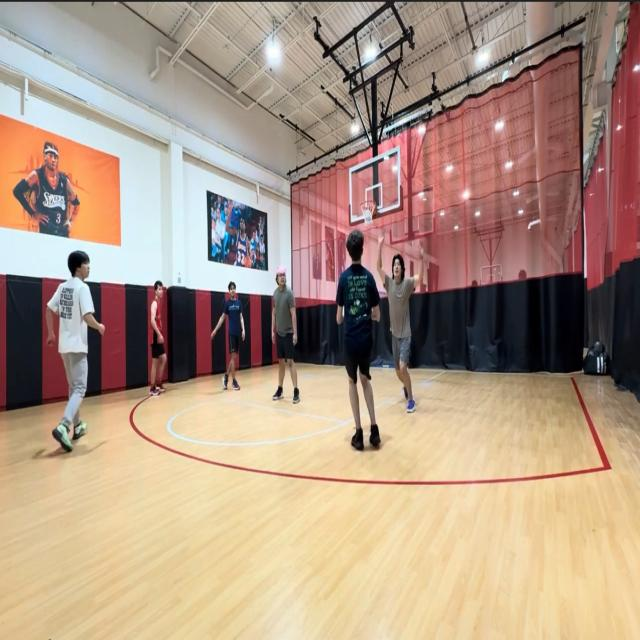Basketball Rim: (360, 200, 376, 227)
Player: (46, 248, 104, 456), (336, 229, 382, 450), (376, 232, 424, 415), (208, 280, 246, 389), (270, 266, 300, 402), (146, 278, 166, 397)
